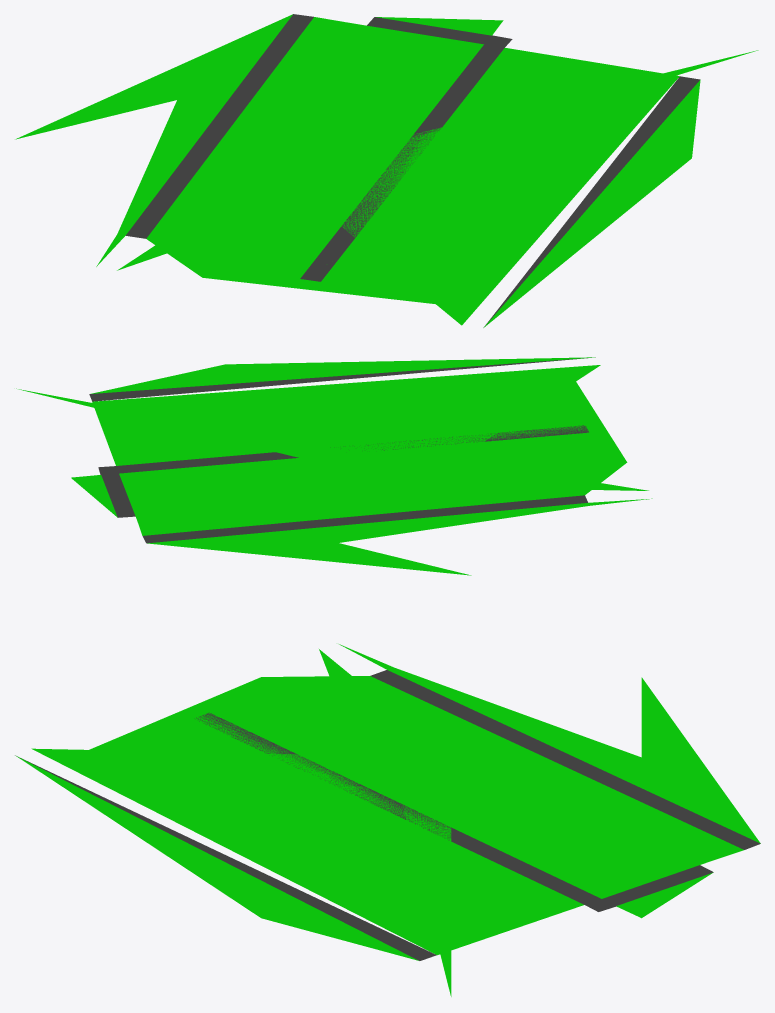
3 renders of one model, top to bottom at view 1: azimuth 30°, elevation 25°; view 2: azimuth 150°, elevation 25°; view 3: azimuth 270°, elevation 25°, orthographic. The views are drawn at different scales.
Size of the model in its own units: 147 by 0 by 118.
